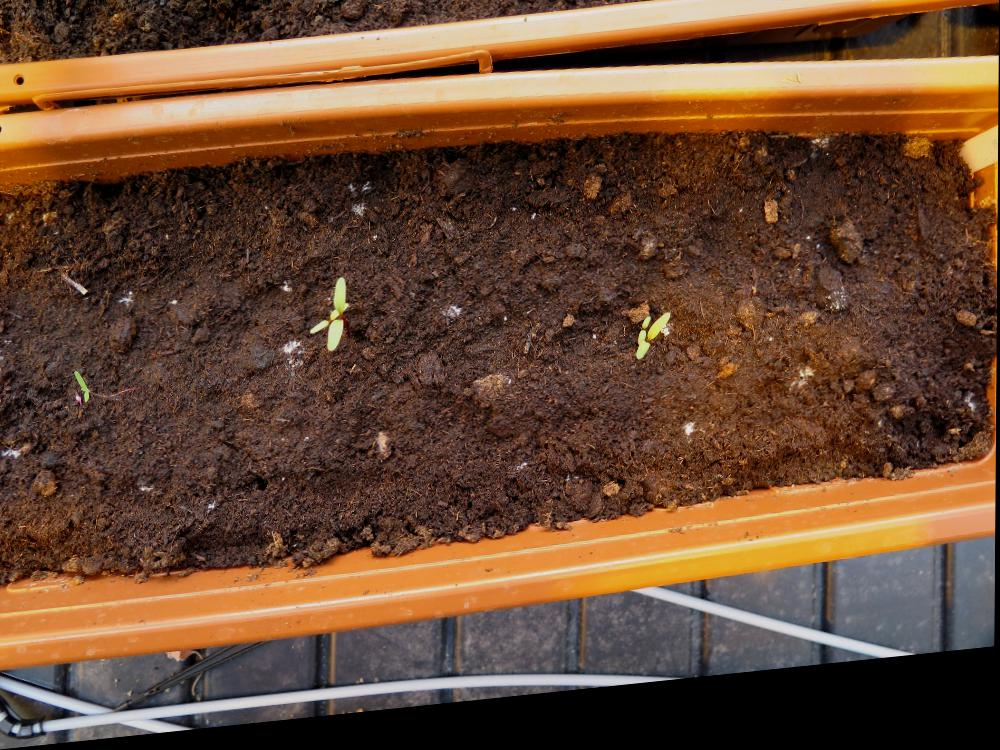weed: (71, 367, 91, 406)
